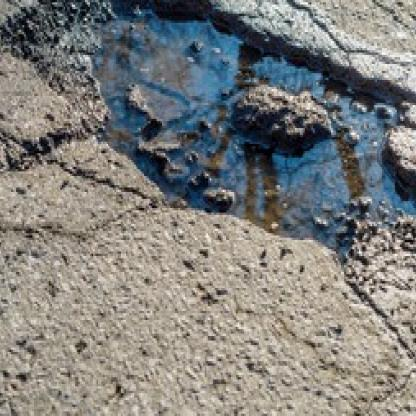pothole: (0, 0, 416, 272)
